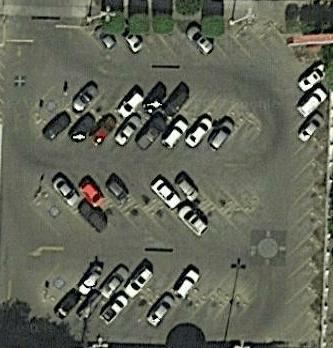parkingspot: (283, 58, 332, 347), (33, 192, 264, 241), (40, 170, 260, 215), (19, 284, 253, 326), (29, 84, 260, 125), (33, 109, 240, 153), (41, 260, 251, 302), (86, 22, 298, 57)
